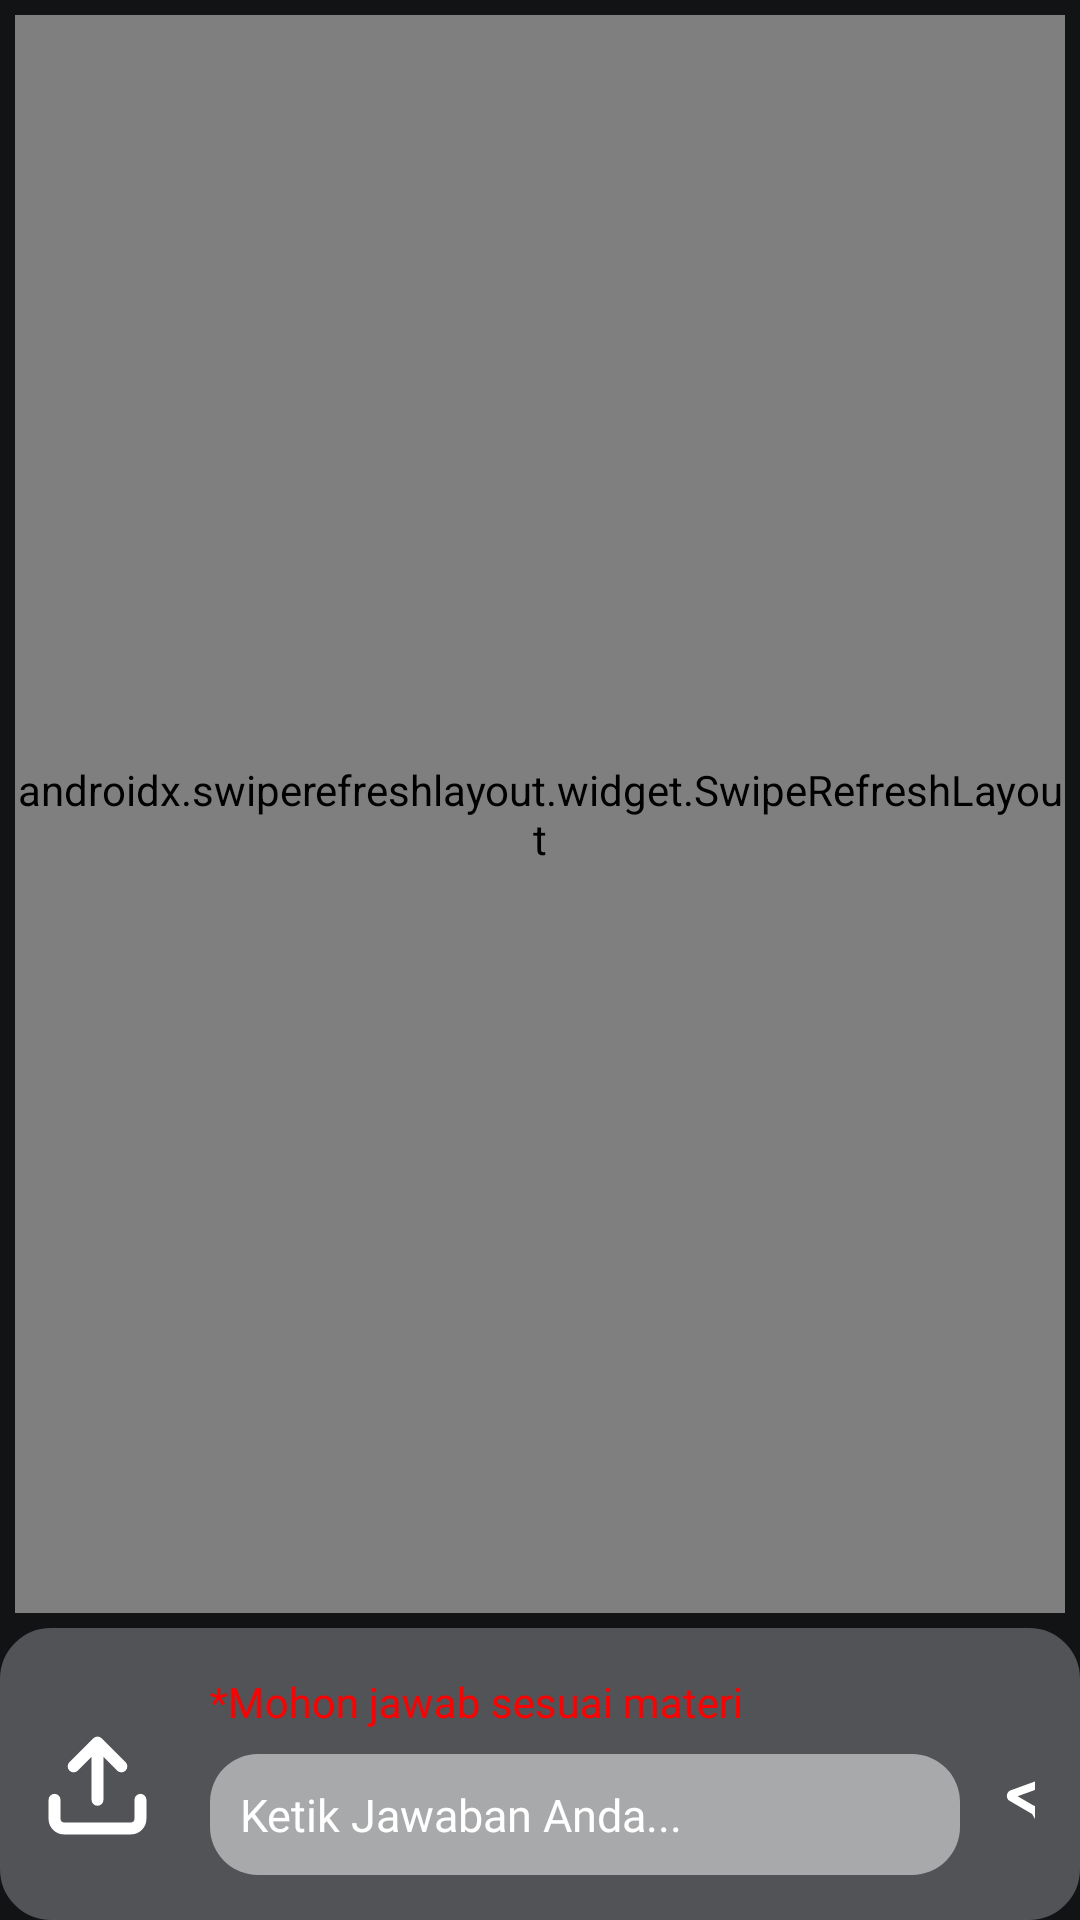

Named icons in this screenshot (1080px x 1920px) and their bounding boxes, (x1, y1, x2, y2):
upload: (48, 1736, 147, 1835)
